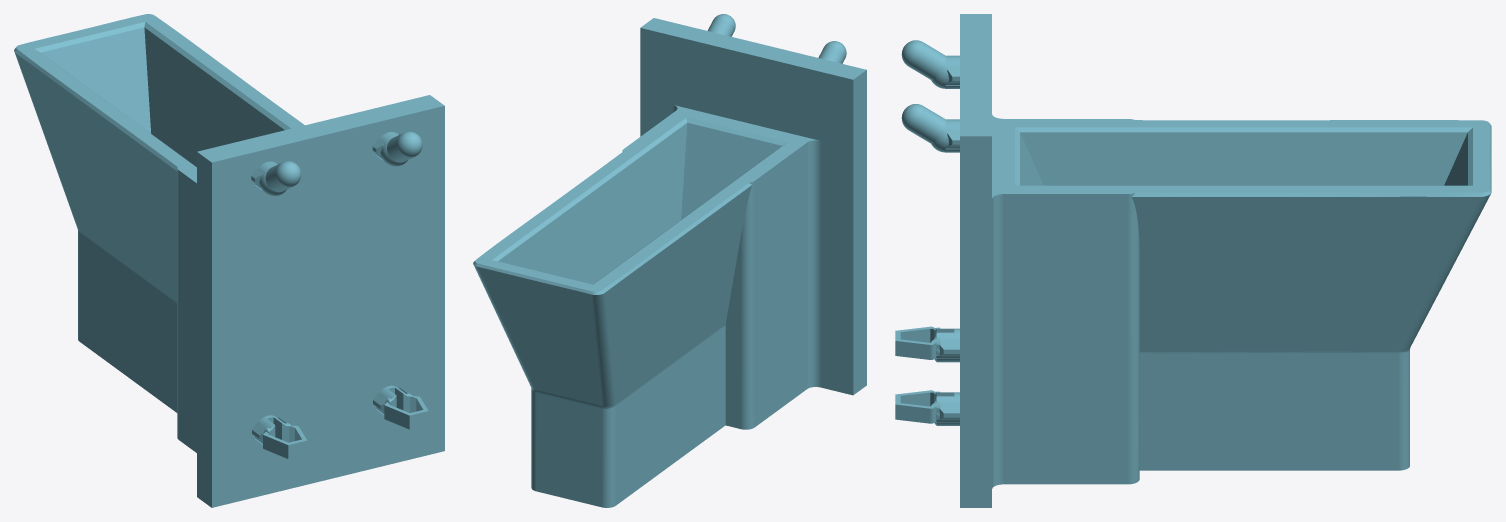
File: part-rectangular-tool-funnel__v3__upright__fit-pf02c9-hoop5__installed.glb
3 views of the same model, side by side, from view 1: azimuth 30°, elevation 25°; view 2: azimuth 150°, elevation 25°; view 3: azimuth 270°, elevation 25° (orthographic). The views are drawn at different scales.
Visible parts, largest first — view 1: part-rectangular-tool-funnel__v3__upright__fit-pf02c9-hoop5_; view 2: part-rectangular-tool-funnel__v3__upright__fit-pf02c9-hoop5_; view 3: part-rectangular-tool-funnel__v3__upright__fit-pf02c9-hoop5_.
Part boxes in pixels (x1,y1,x2,y2): part-rectangular-tool-funnel__v3__upright__fit-pf02c9-hoop5_: (14,14,444,507); part-rectangular-tool-funnel__v3__upright__fit-pf02c9-hoop5_: (473,14,866,507); part-rectangular-tool-funnel__v3__upright__fit-pf02c9-hoop5_: (895,14,1491,507).
Bounding box in the file's own units: 0.0488 × 0.0694 × 0.1006.
